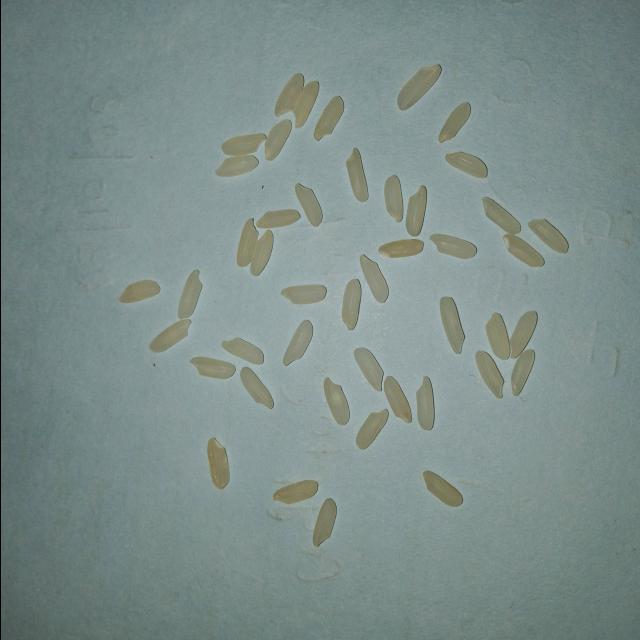Full: (396, 63, 441, 111), (480, 197, 520, 235), (358, 254, 388, 304), (438, 297, 464, 354), (502, 234, 544, 268), (148, 319, 190, 353), (239, 367, 273, 409), (422, 471, 462, 506), (354, 409, 388, 450), (526, 220, 568, 253), (282, 320, 312, 366), (313, 96, 343, 142), (474, 351, 503, 398), (438, 102, 470, 144), (508, 311, 536, 359), (383, 376, 411, 424), (352, 348, 382, 392), (274, 74, 304, 118), (176, 270, 202, 320), (428, 233, 476, 260), (322, 378, 348, 426), (292, 81, 318, 129), (294, 183, 322, 227), (345, 148, 367, 202), (444, 152, 486, 180), (263, 119, 291, 161), (312, 498, 336, 546), (206, 438, 228, 490), (404, 186, 426, 237), (510, 350, 534, 396), (249, 230, 273, 276), (235, 219, 258, 267), (220, 338, 262, 364), (272, 480, 317, 504), (340, 278, 360, 330), (415, 376, 434, 430), (188, 357, 234, 379), (220, 134, 266, 156), (118, 280, 160, 304), (215, 156, 258, 178), (383, 175, 402, 223), (255, 209, 299, 229), (377, 239, 423, 258), (280, 285, 326, 304)
